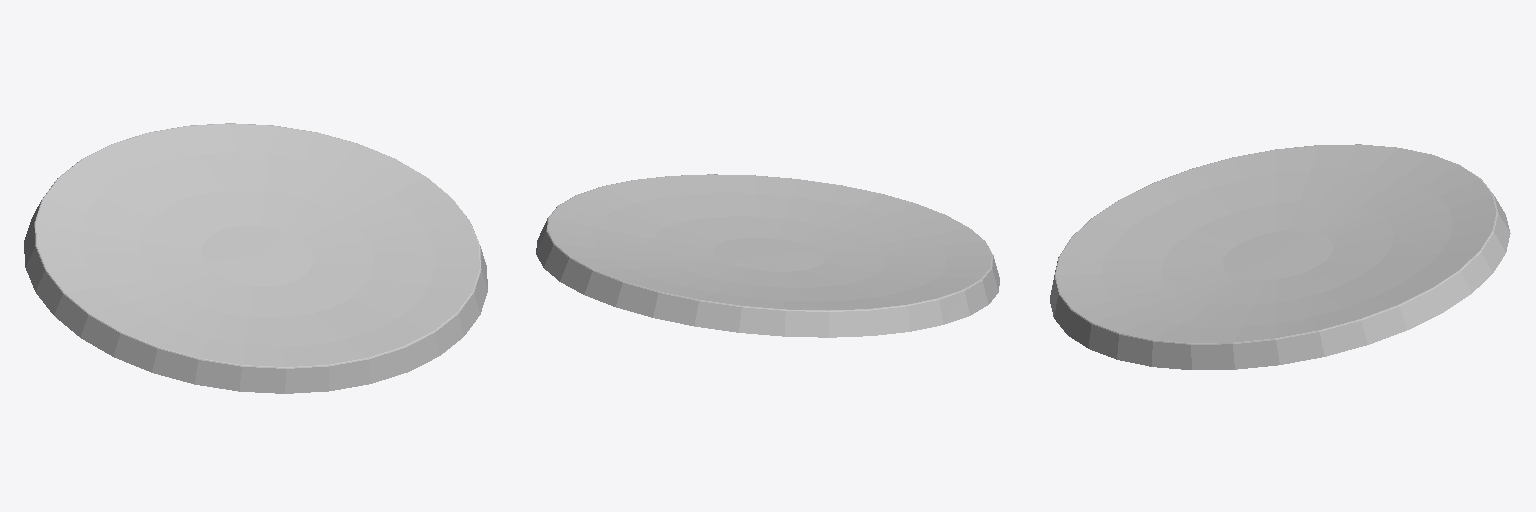
Rendered from vr_controller_05_wireless_b_trackpad.obj.
The picture shows the model from 3 angles: view 1: azimuth 30°, elevation 25°; view 2: azimuth 150°, elevation 25°; view 3: azimuth 270°, elevation 25°; orthographic projection.
Parts seen in each view (by area): view 1: trackpad group1; view 2: trackpad group1; view 3: trackpad group1.
Part boxes in pixels (bbox=[...]): trackpad group1: bbox=[24, 123, 487, 393]; trackpad group1: bbox=[536, 174, 999, 337]; trackpad group1: bbox=[1050, 144, 1510, 369].
Size of the model in its own units: 0.0425 by 0.0088 by 0.042.